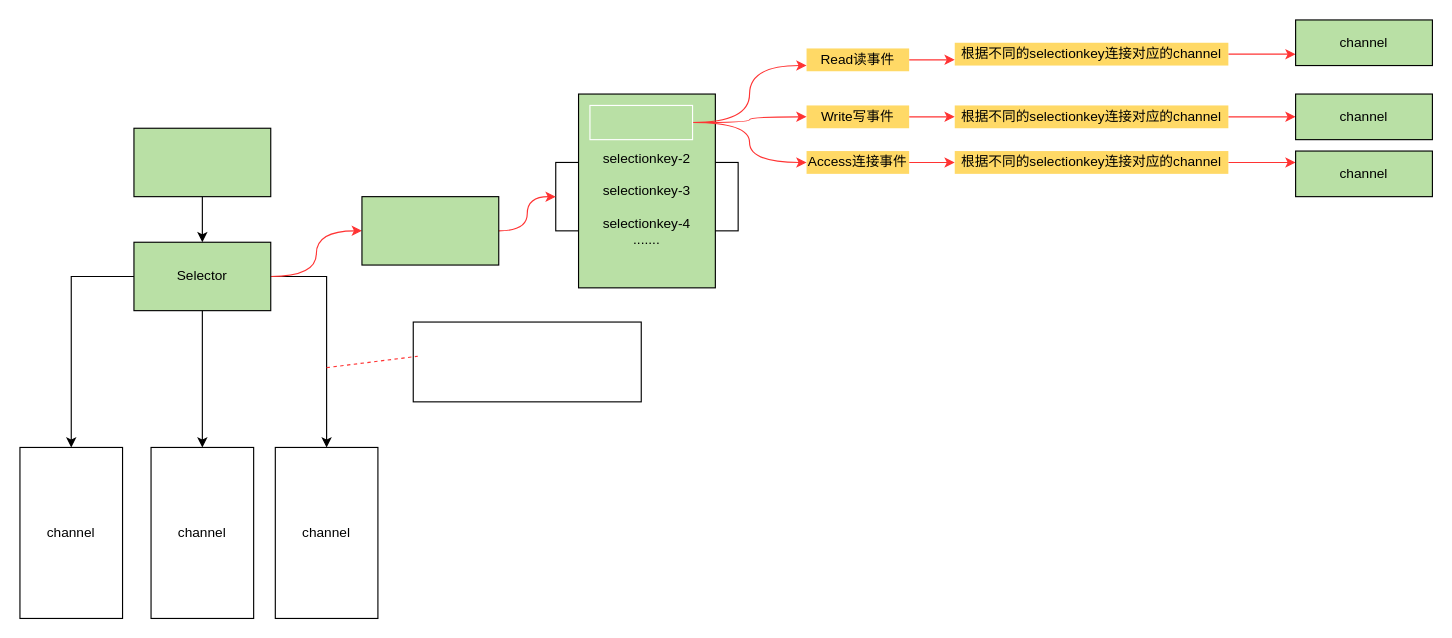
This 1452x638 diagram has some shape labels left out. Each missing label, with the centre of its shape:
"select()方法" belongs at point 430,230.
"selectionkey-1" belongs at point 641,122.
"Thread" belongs at point 202,162.
"Tread->Selector->select()方法->获取selectionkey列表，每个selectionkey对应一个channel" belongs at point 526,361.
